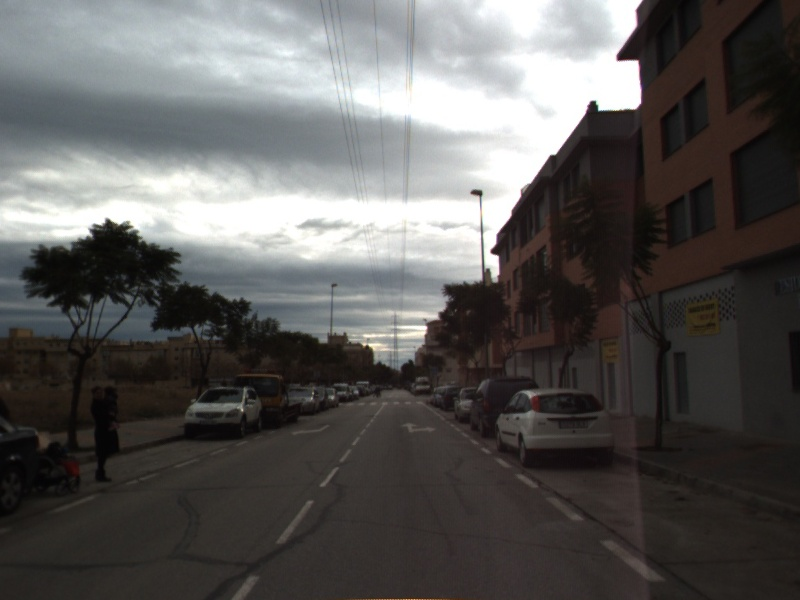STRAIGHT_RIGHT: (399, 419, 438, 434)
